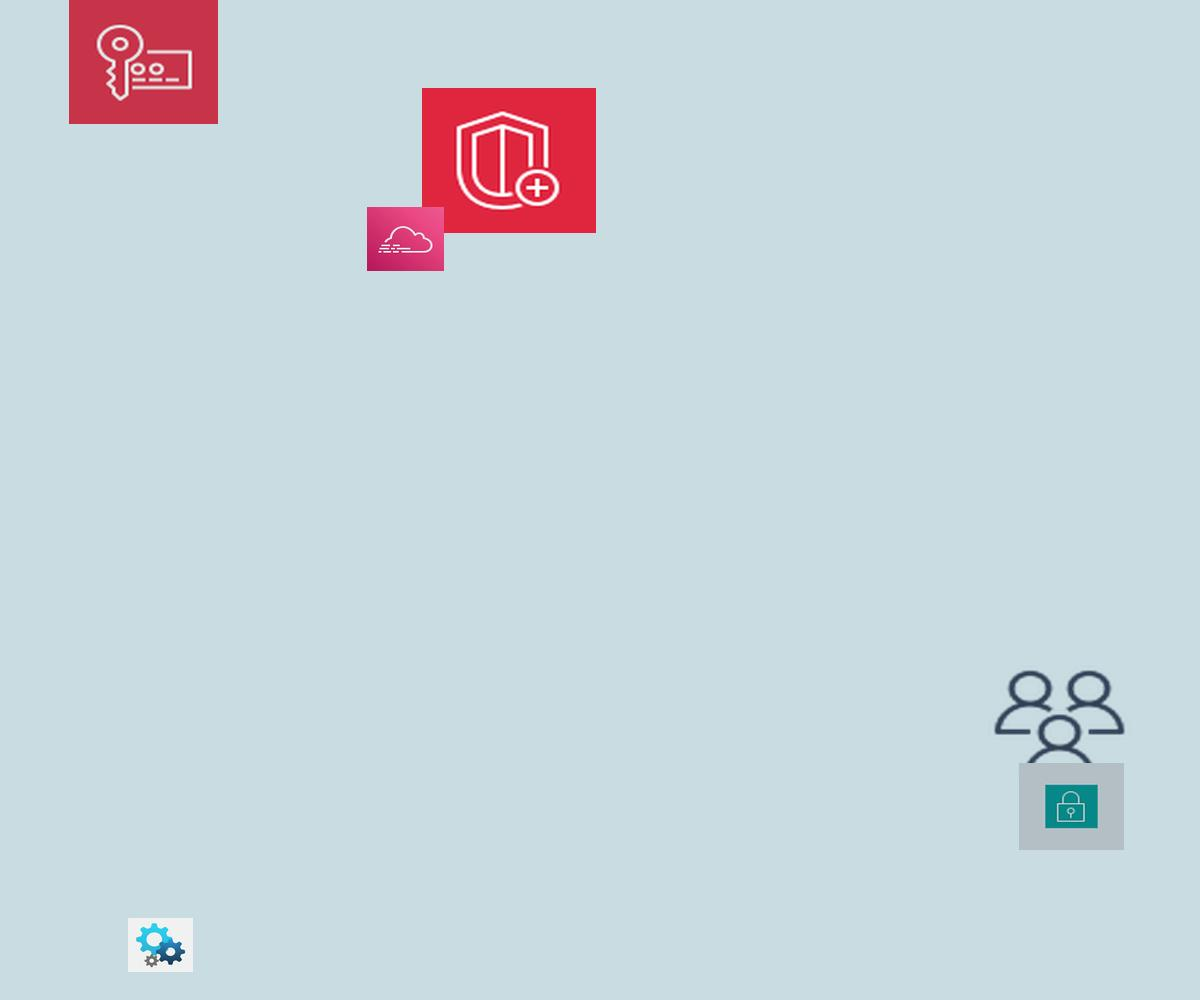AWS-CloudTrail: (367, 207, 444, 271)
AWS-Key-Management-Service: (69, 0, 218, 124)
AWS-Private-subnet: (1019, 763, 1124, 850)
AWS-Res_Users: (989, 666, 1130, 783)
AWS-Shield: (422, 88, 596, 233)
Azure_api: (128, 918, 193, 972)
